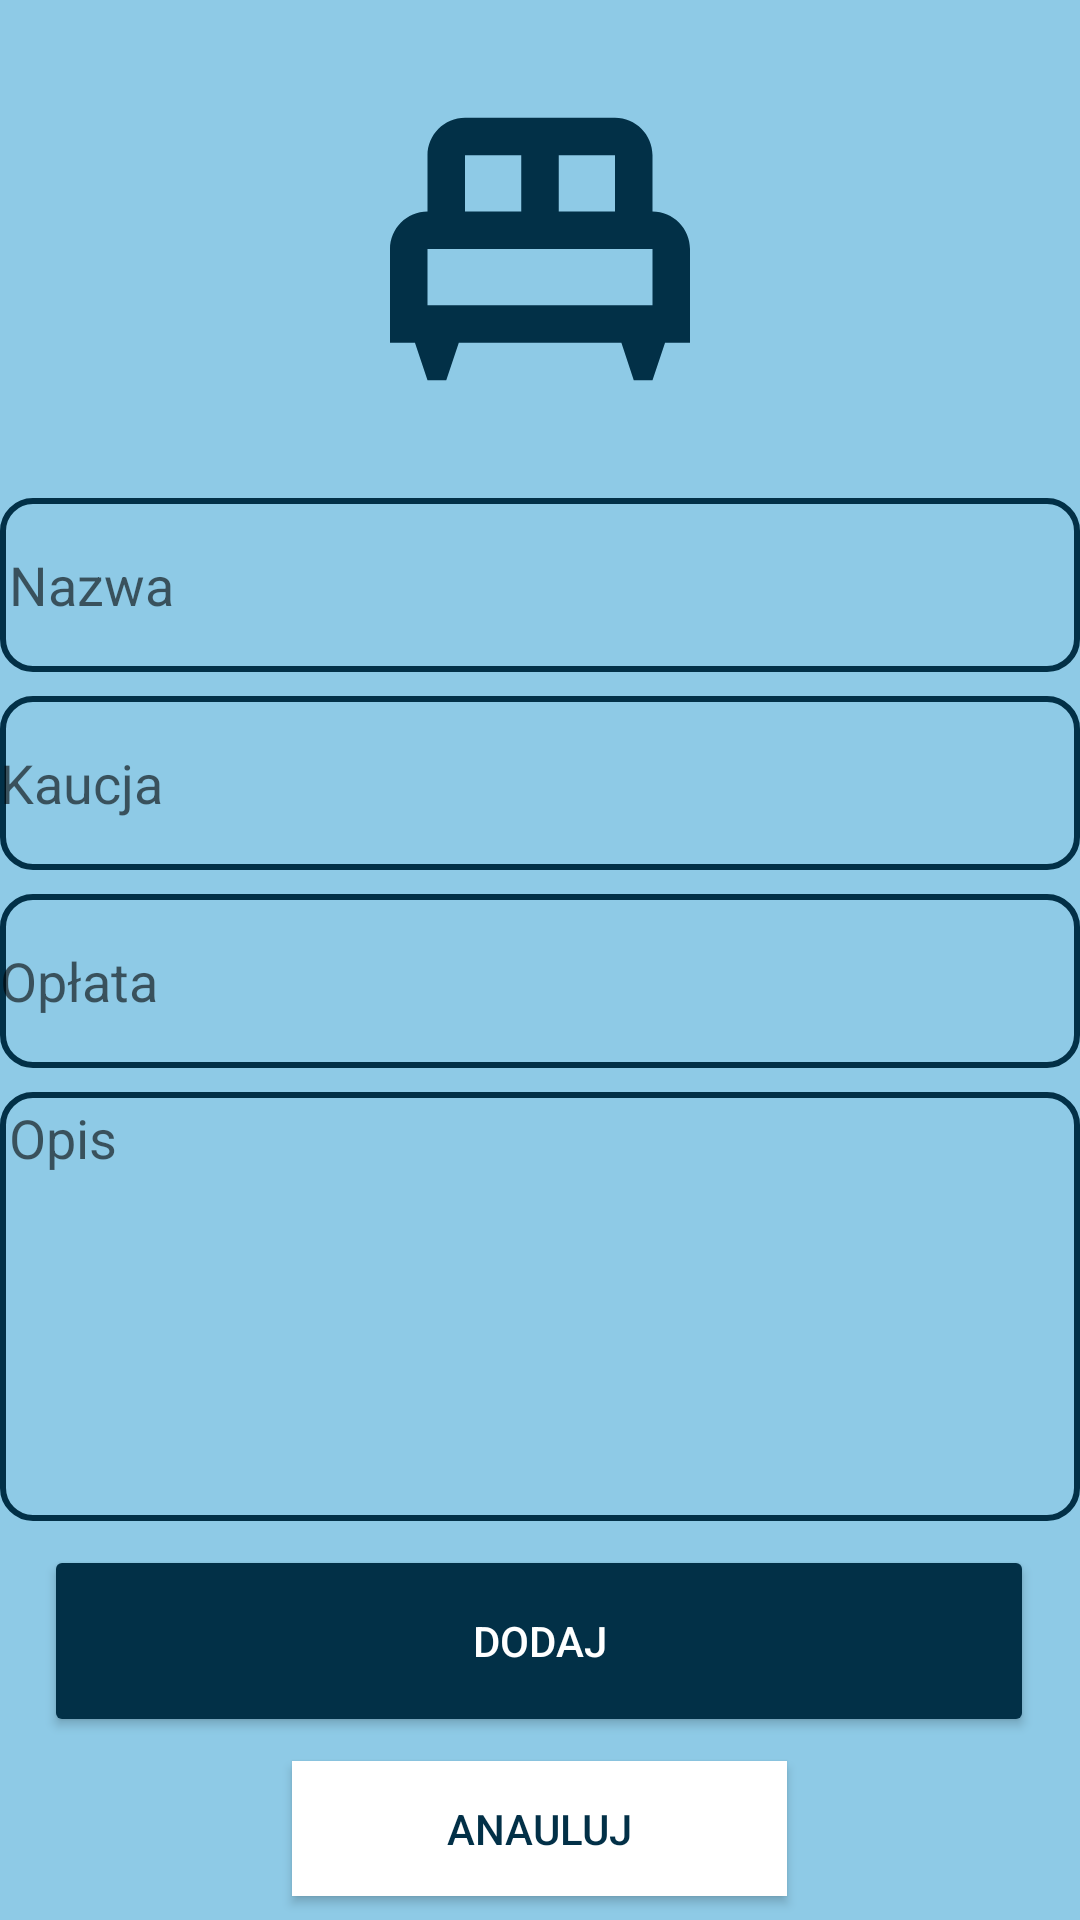

Icon click points for this 1080px x 1920px phone screenshot, format [x,y]:
room: [540,249]
